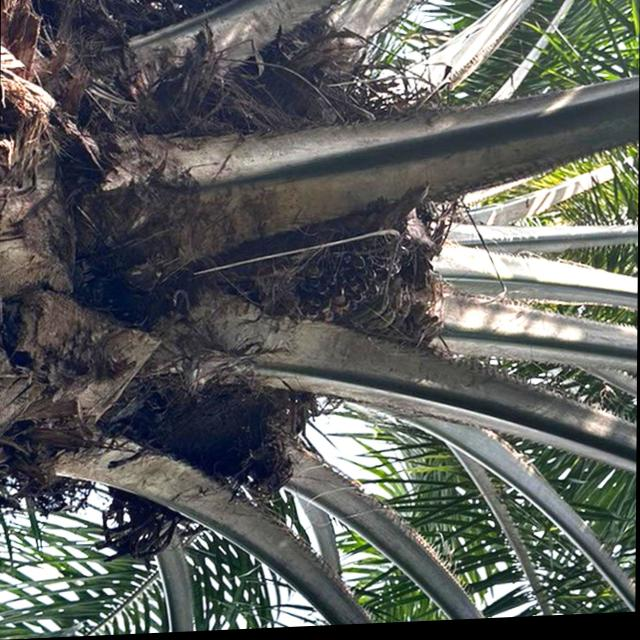almost: (257, 216, 414, 342)
